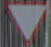Give way: (6, 2, 47, 45)
